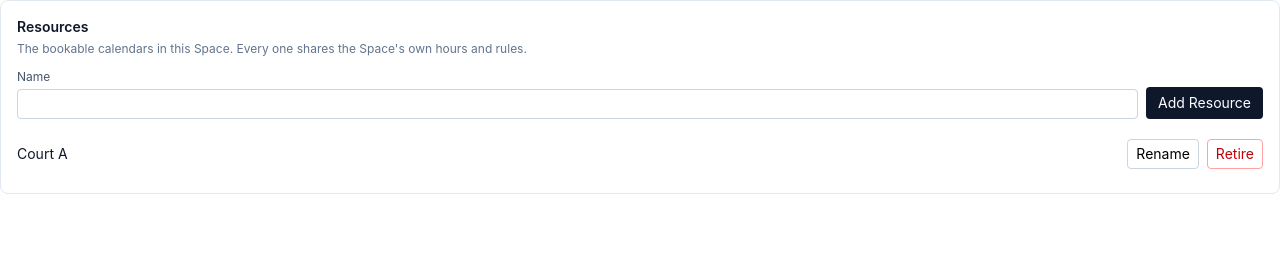
Test: ResourcesPanel › shows a forbidden retire as an error on the row
Expected: the list item with test id "resource-1" is shown, 17,131 -> 1263,177
Click the button with test id "resource-1-retire-start" at x=1235, y=154, box 1207,139 -> 1263,169
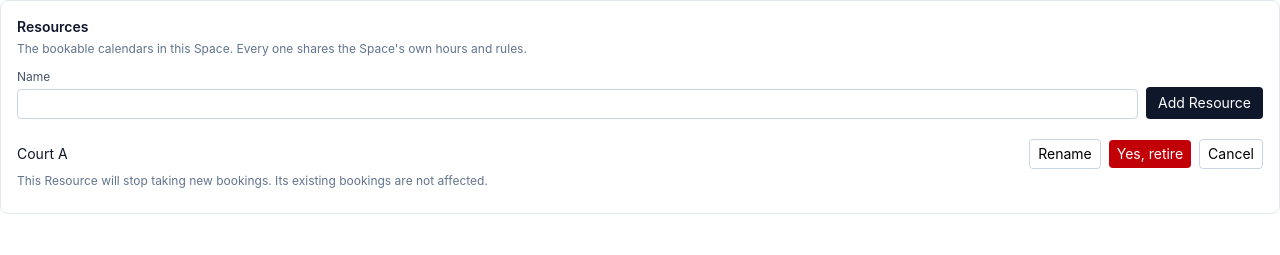
Click the button with test id "resource-1-retire-confirm-yes" at x=1150, y=154, box 1109,140 -> 1191,168
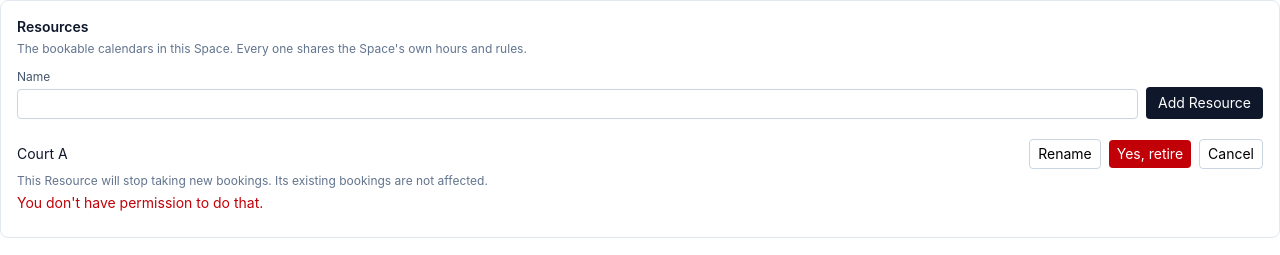
Expected: the message with test id "resource-1-error" reads "You don't have permission to do that.", 17,194 -> 263,211
